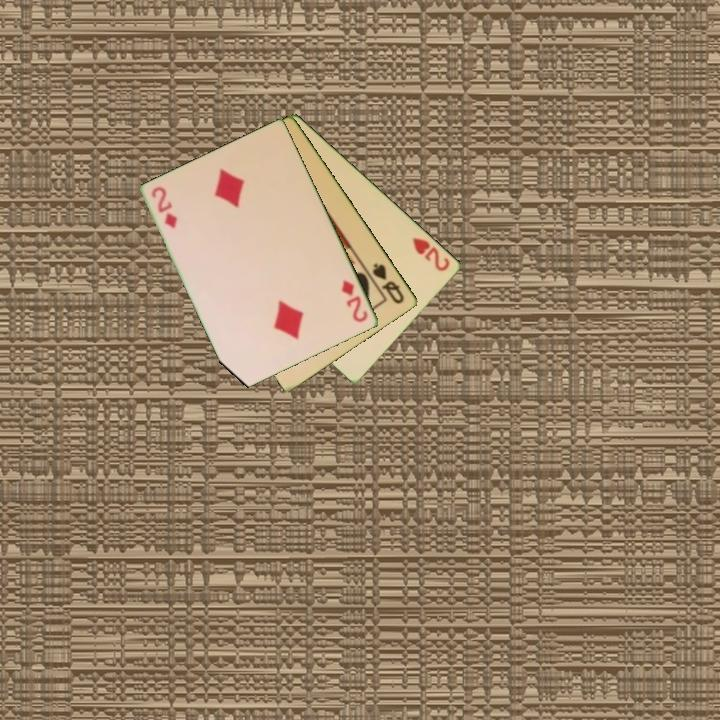2d: (338, 276, 371, 325), (148, 183, 181, 232)
2h: (409, 233, 453, 274)
Qs: (369, 259, 407, 307)
